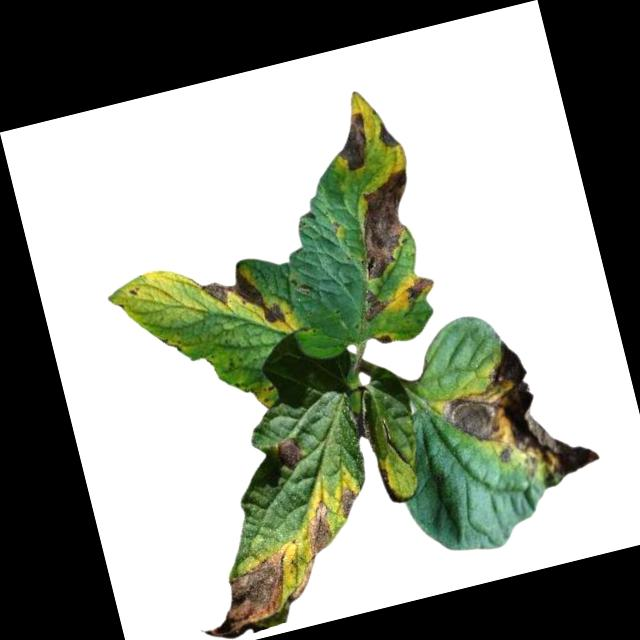Early_blight: (435, 345, 605, 504), (182, 498, 355, 640), (342, 168, 432, 284), (198, 263, 291, 345), (329, 109, 375, 177), (272, 436, 308, 473), (403, 272, 437, 304), (359, 288, 390, 322), (337, 485, 365, 521), (374, 119, 400, 151), (374, 331, 394, 347)
